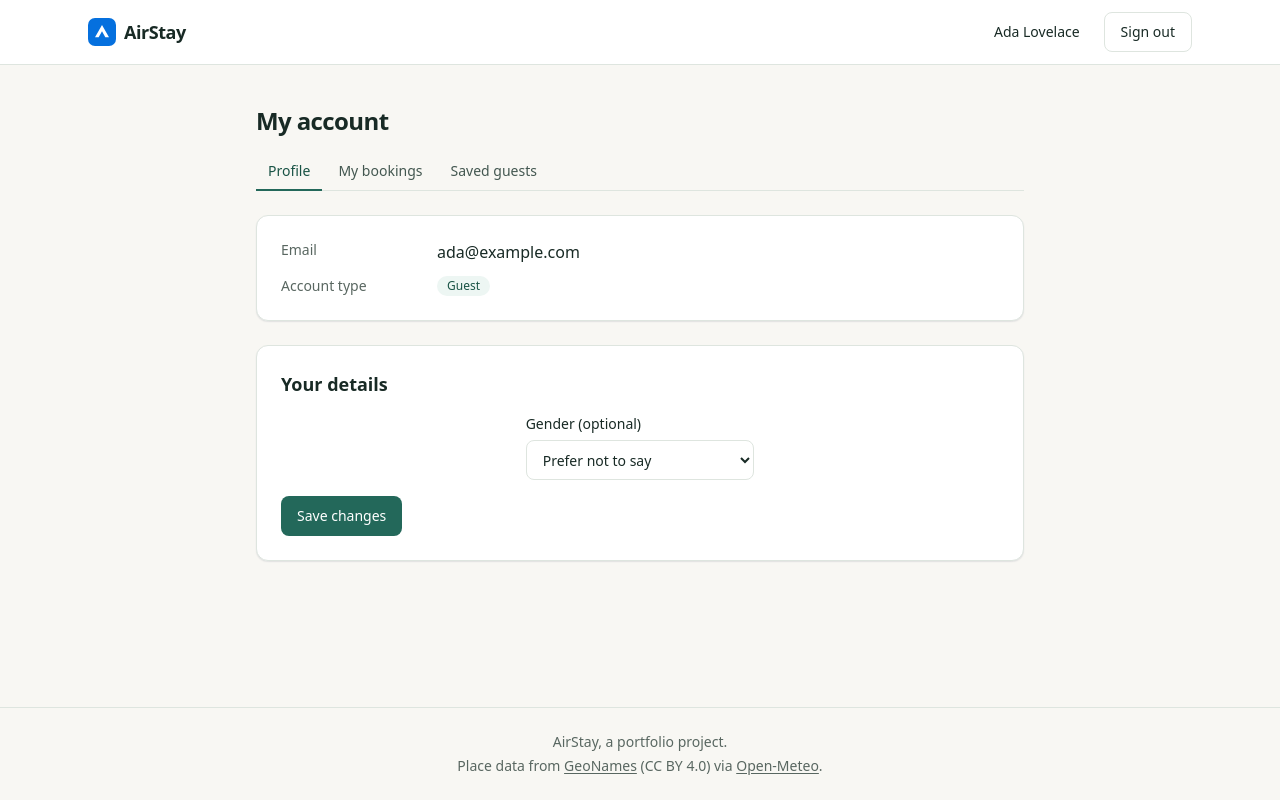
Scenario: a returning user › signs out, forgets the user and protects the account page again
Check: the heading "My account" is shown, box [256,104,388,137]
Click the button "Sign out" at (1148, 32), box [1104,12,1192,52]
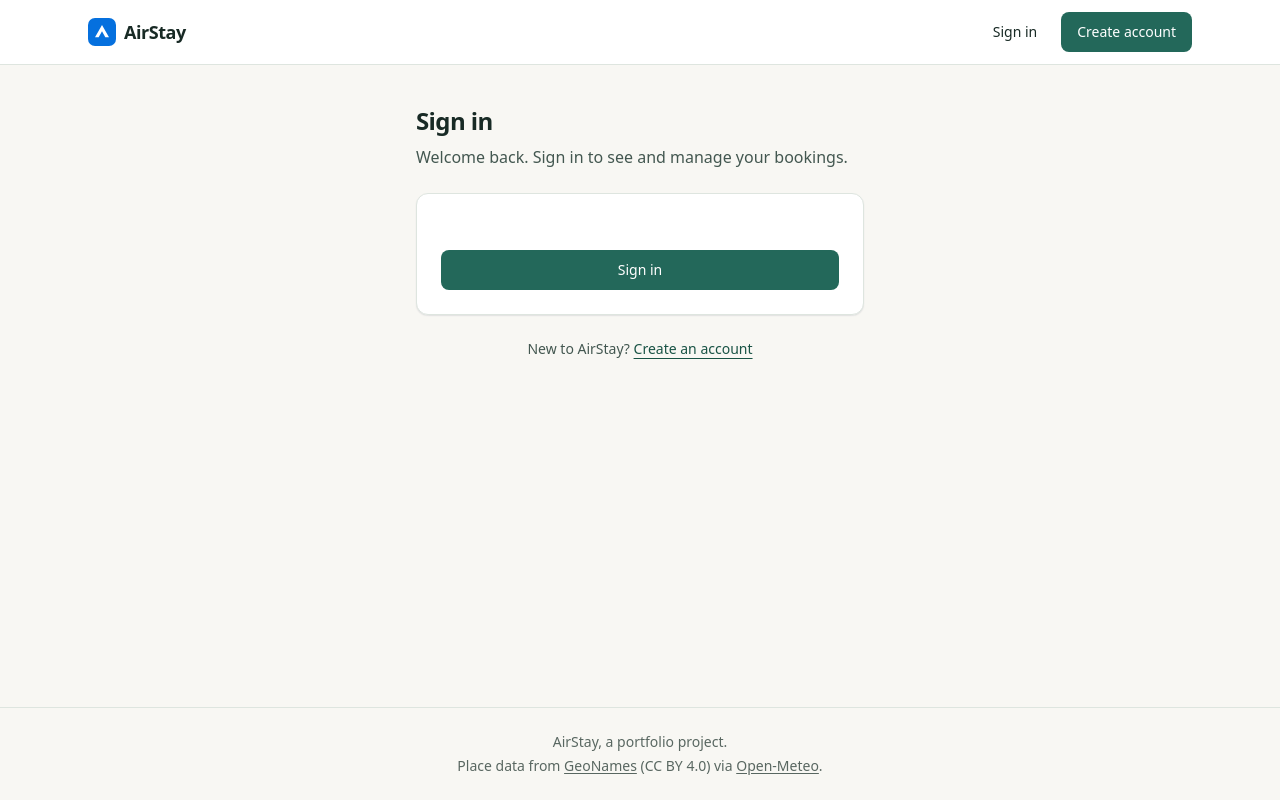
Check: the heading "Sign in" is shown, box [416,104,493,137]
Check: the link "Create account" is shown, box [1061,12,1192,52]
